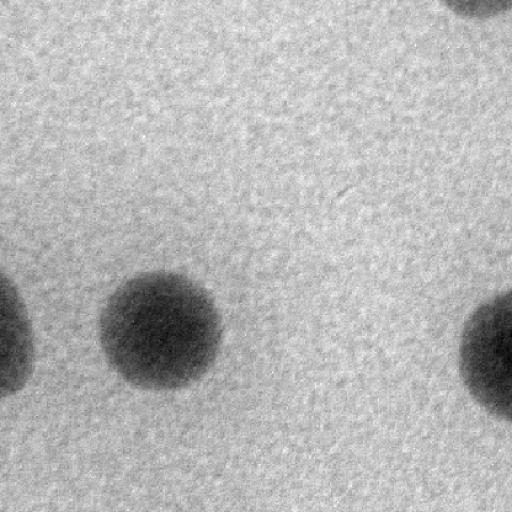Nanoparticles: (98, 268, 226, 392), (457, 293, 512, 418), (0, 270, 38, 401), (442, 0, 512, 24)
